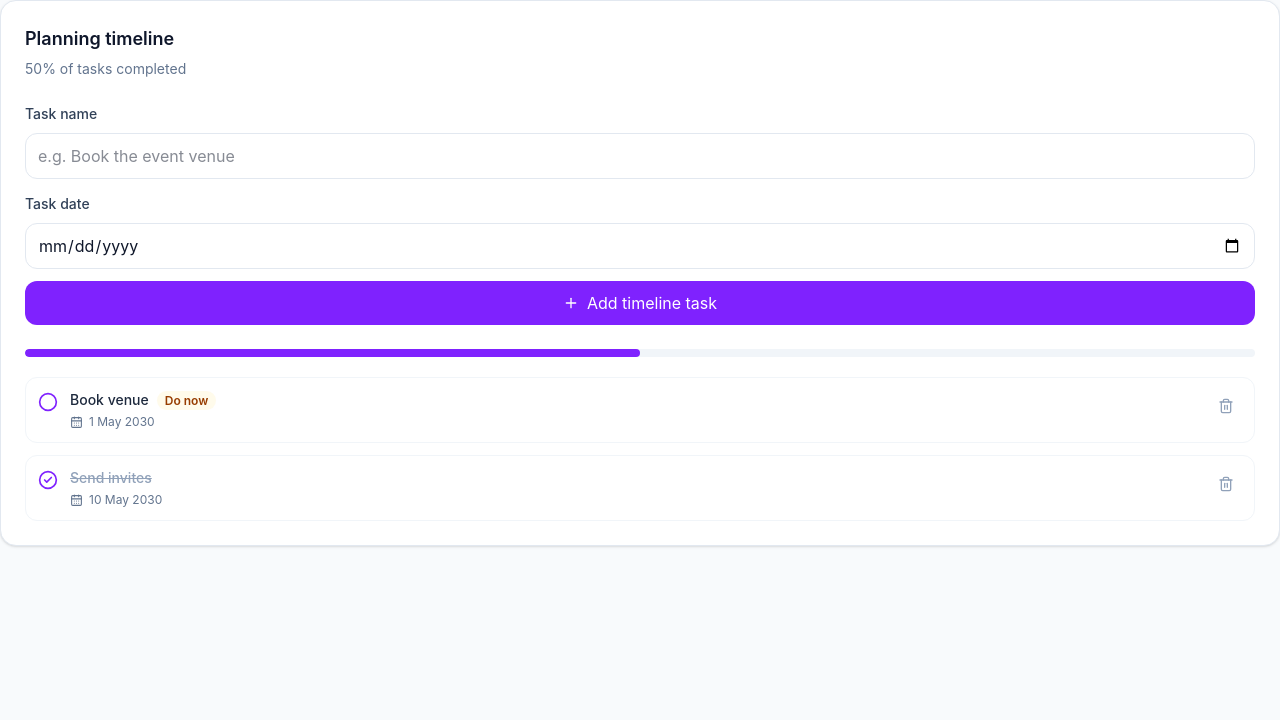
TimelinePanel › flags urgent tasks until they are completed
Expected: the text "Do now" is shown, [157, 391, 216, 410]
Click the button named "Mark Book venue complete" at (48, 402), box [38, 392, 58, 412]
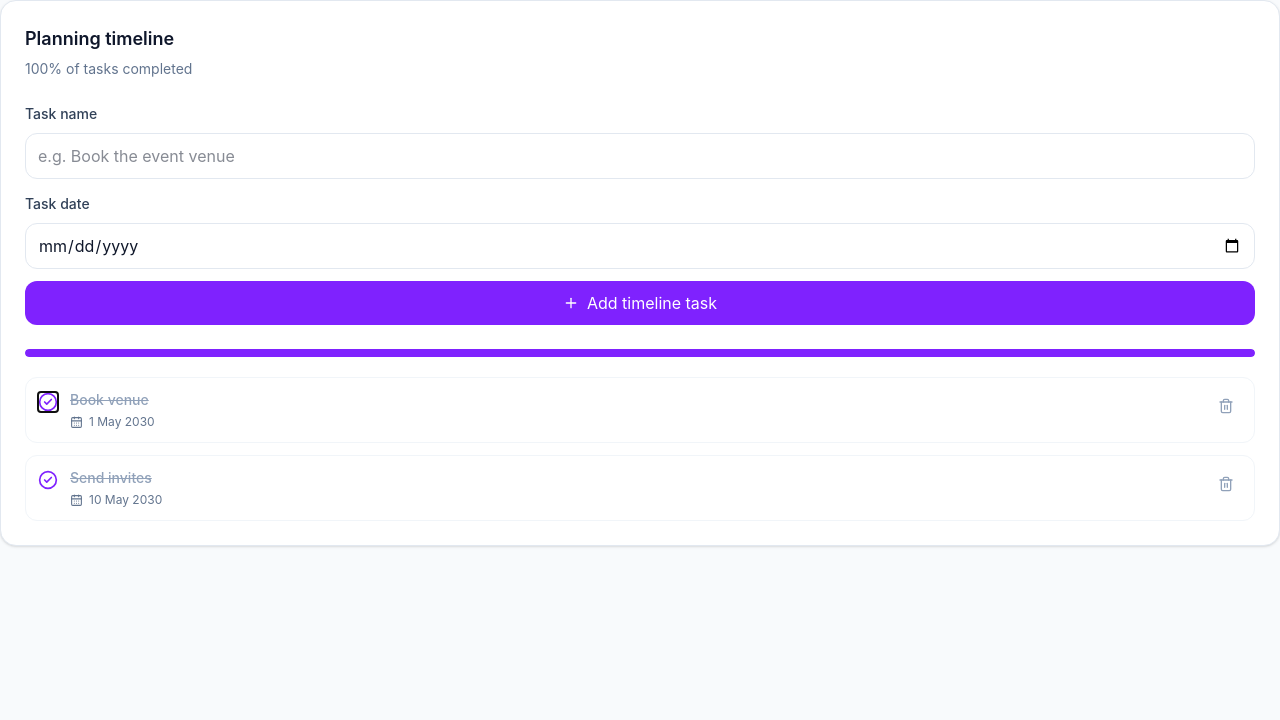
Now the text "Do now" is gone
Now the text "100% of tasks completed" is shown, box [25, 60, 192, 77]
